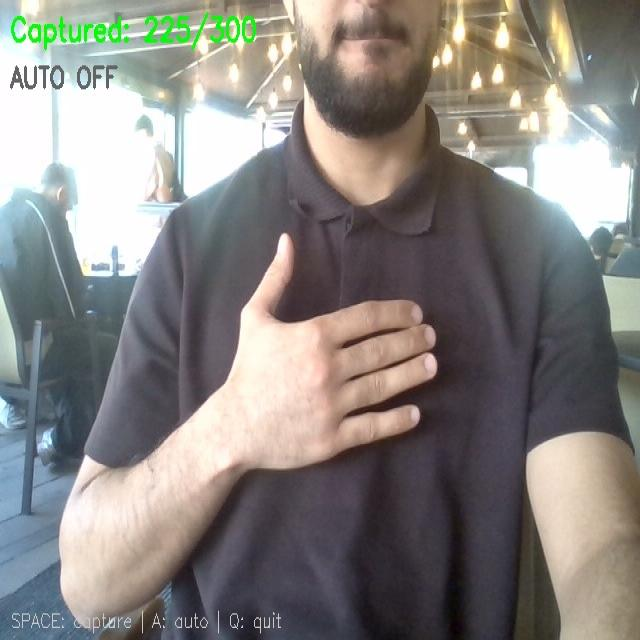Hand: (221, 235, 436, 469)
